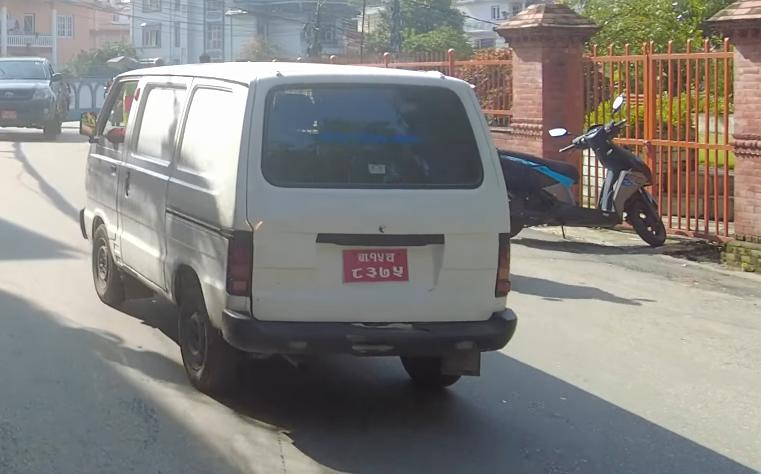car: (0, 55, 71, 149)
scooter: (502, 94, 668, 252)
van: (73, 59, 522, 411)
